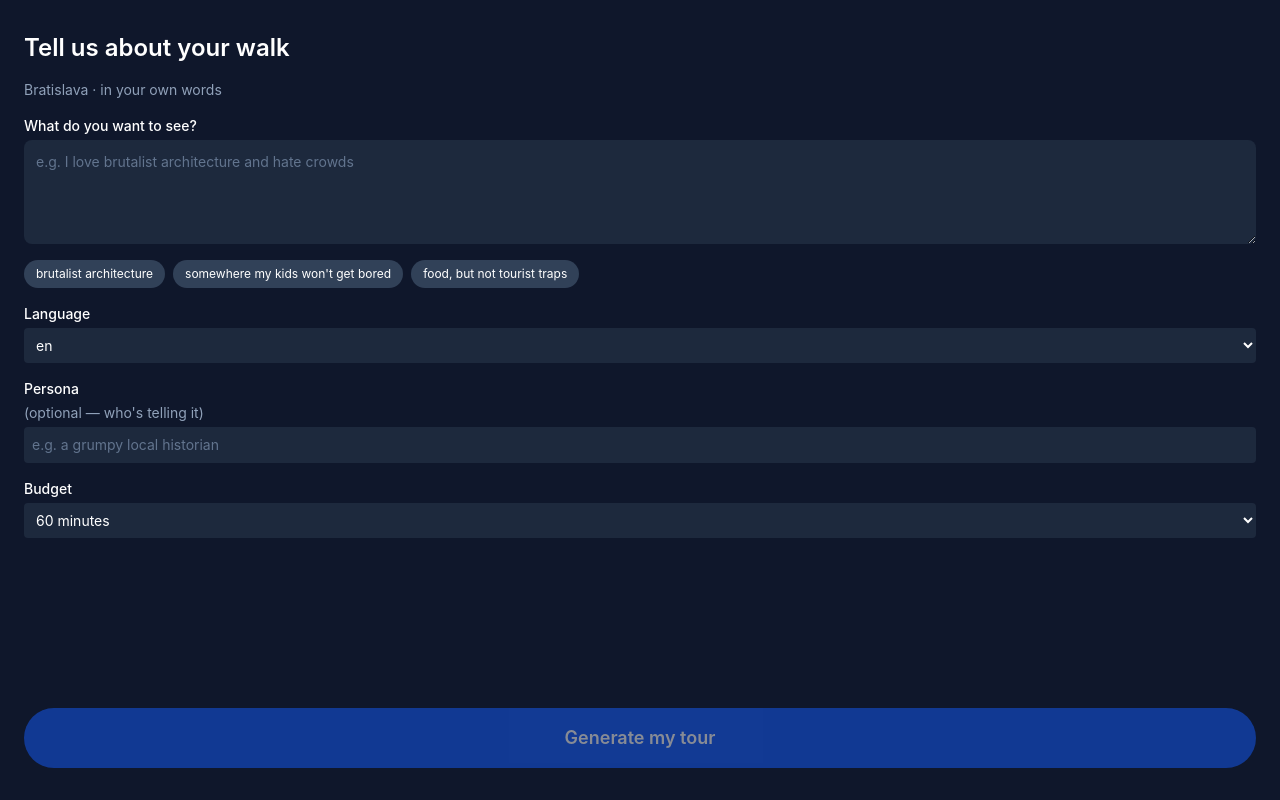
it: GenerateScreen › a chip on an empty textarea sets the text directly, with no leading space
This screenshot has width=1280, height=800.
Click the button "somewhere my kids won't get bored": click(288, 274) x1=173 y1=260 x2=403 y2=288
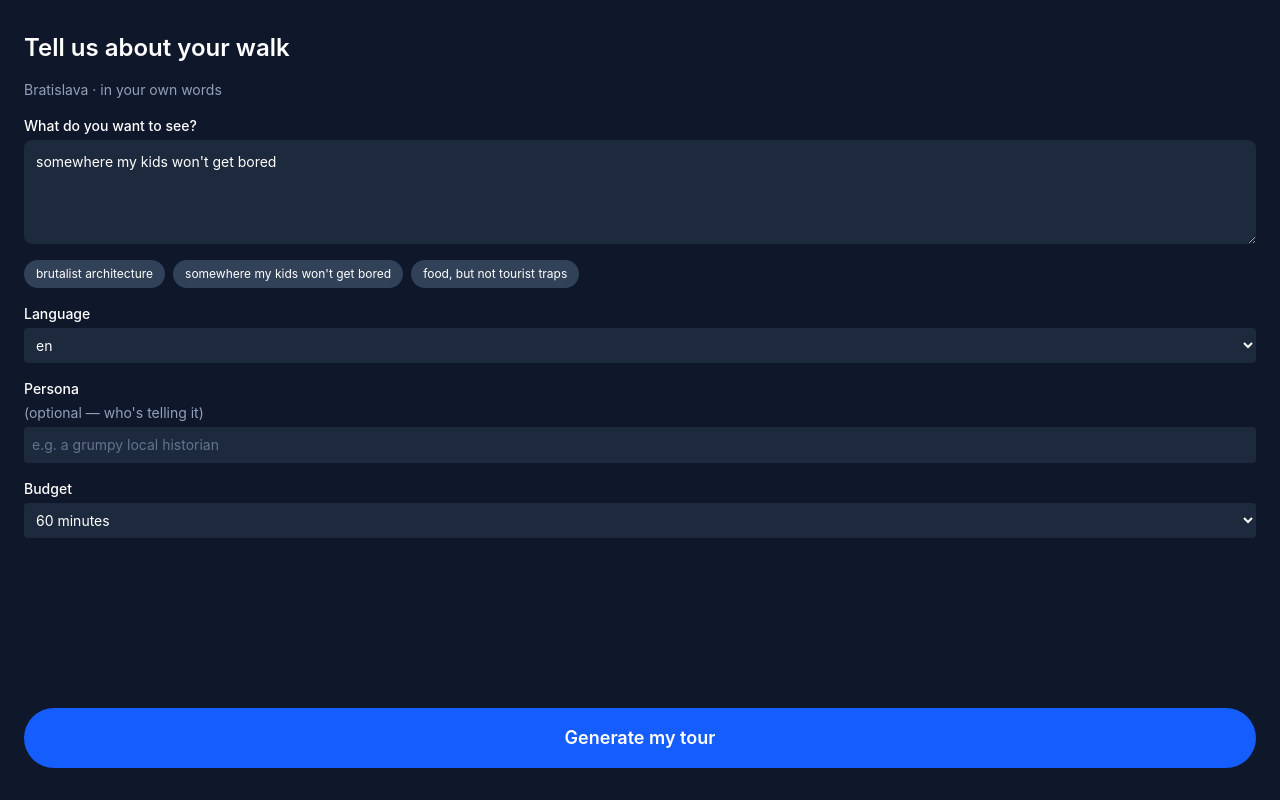
Check: the text box labelled "What do you want to see?" holds "somewhere my kids won't get bored", box x1=24 y1=140 x2=1256 y2=244
